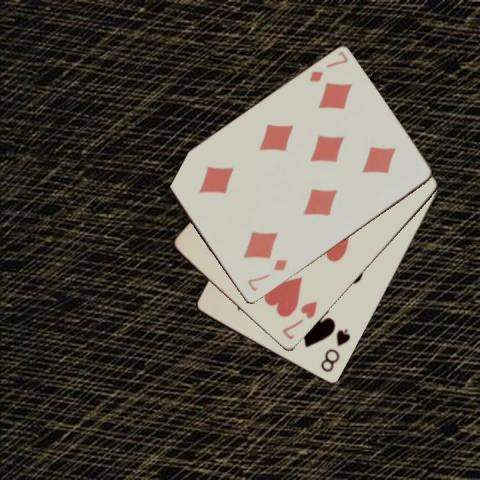7d: (244, 257, 289, 293), (306, 49, 350, 84)
7h: (280, 298, 319, 342)
8s: (317, 325, 352, 375)
